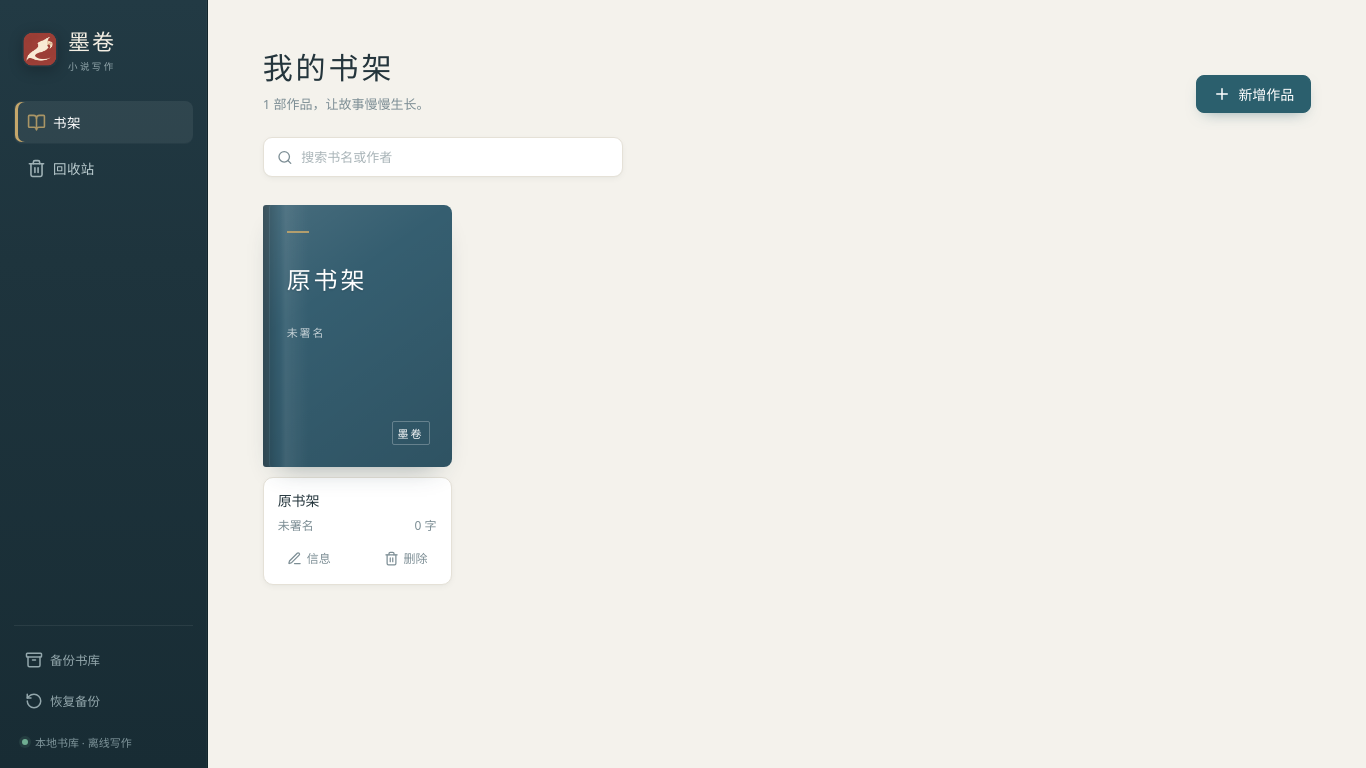
Scenario: does not publish a delayed older restore snapshot after the newer shelf reload reports success
Later steps or results of the test are not shown.
Expected: the button with aria-label "打开 原书架" is shown, [263, 205, 452, 467]
Click the button "备份书库".
click(104, 660)  # box [14, 640, 193, 679]
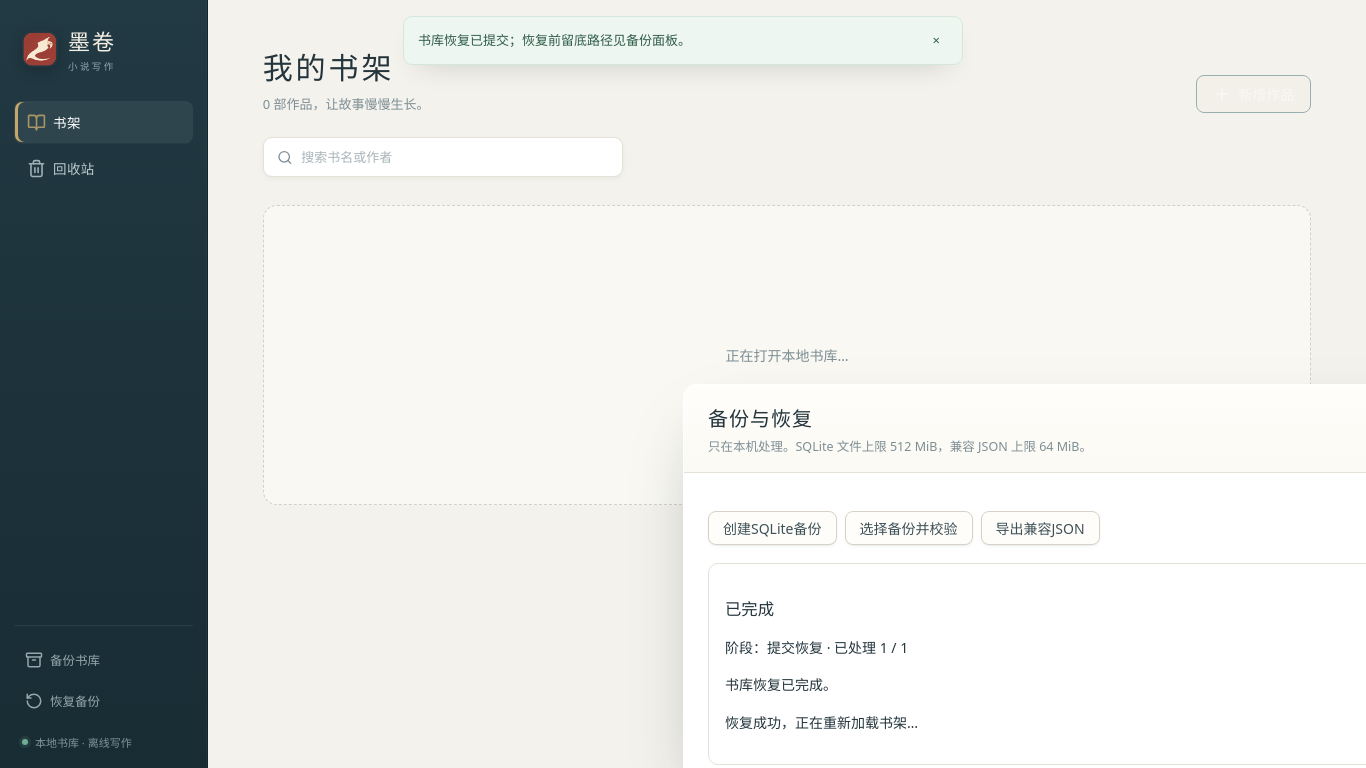
Result: the text "恢复成功，正在重新加载书架…" is shown at [725, 713, 918, 732]
